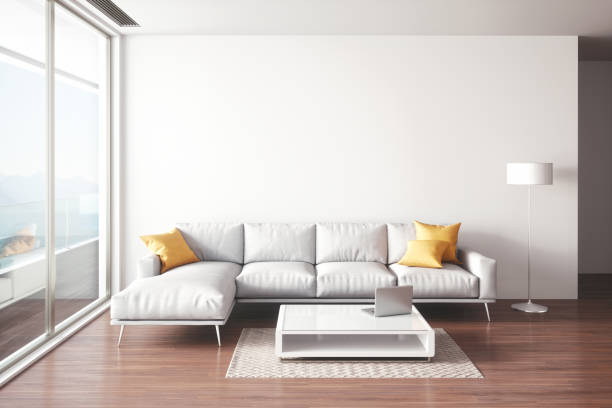floor lamp: (504, 158, 555, 316)
sofa: (107, 219, 500, 348)
table: (273, 300, 437, 365)
